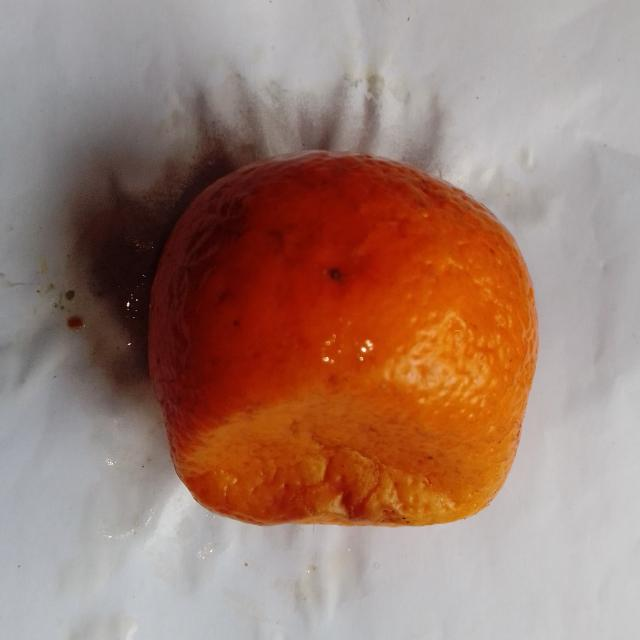orange: (150, 153, 537, 524)
